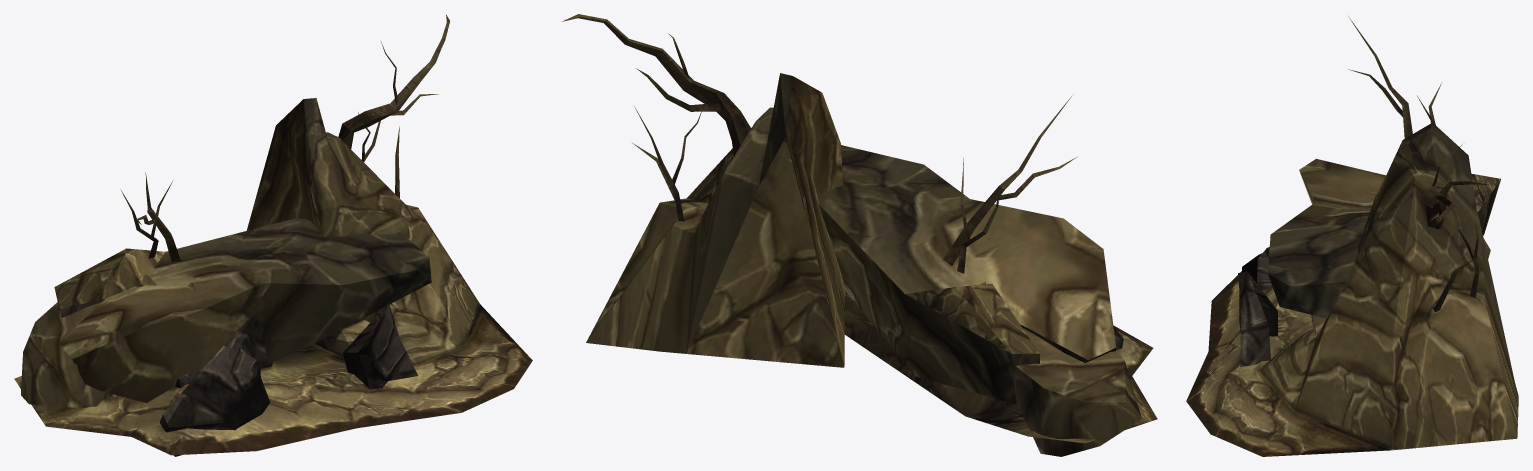
File: D_chuguaiwu002.fbx
The picture shows the model from 3 angles, left to right: view 1: azimuth 30°, elevation 25°; view 2: azimuth 150°, elevation 25°; view 3: azimuth 270°, elevation 25°; orthographic projection. The views are drawn at different scales.
Visible parts, largest first — view 1: D_chuguaiwu002; view 2: D_chuguaiwu002; view 3: D_chuguaiwu002.
Boxes of the visible parts, left/top/right/bottom form: D_chuguaiwu002: left=14, top=14, right=532, bottom=456; D_chuguaiwu002: left=562, top=14, right=1157, bottom=456; D_chuguaiwu002: left=1186, top=16, right=1518, bottom=456.
Bounding box in the file's own units: 533 × 323 × 316.
